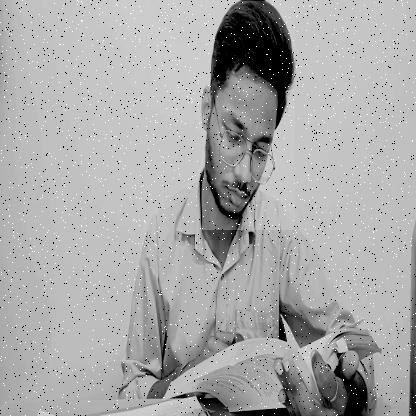Distracted: (202, 1, 295, 230)
